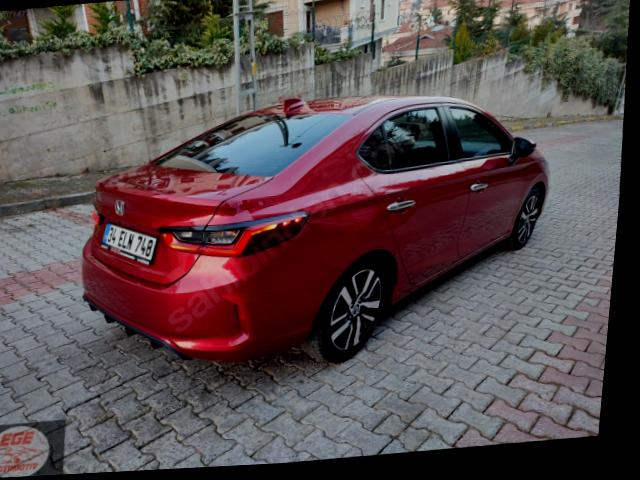plaka: (102, 224, 157, 264)
